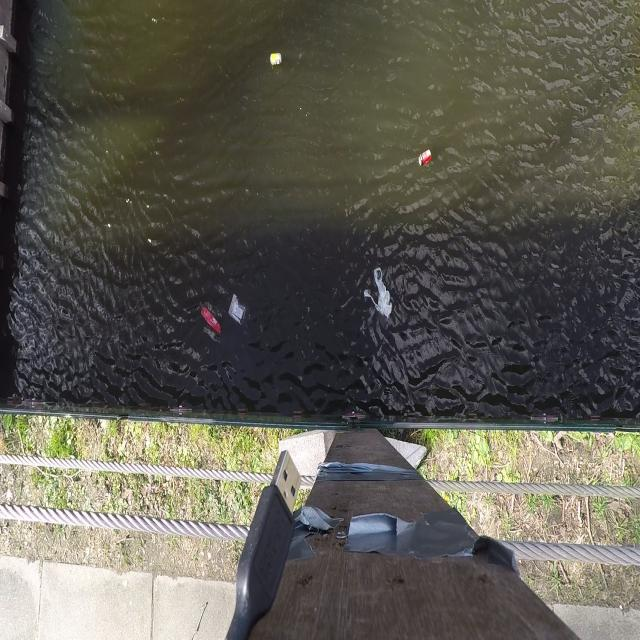Autre plastique: (226, 290, 248, 325)
Non plastique: (416, 146, 434, 171), (266, 52, 285, 72)
Sac plastique: (362, 265, 395, 320)
